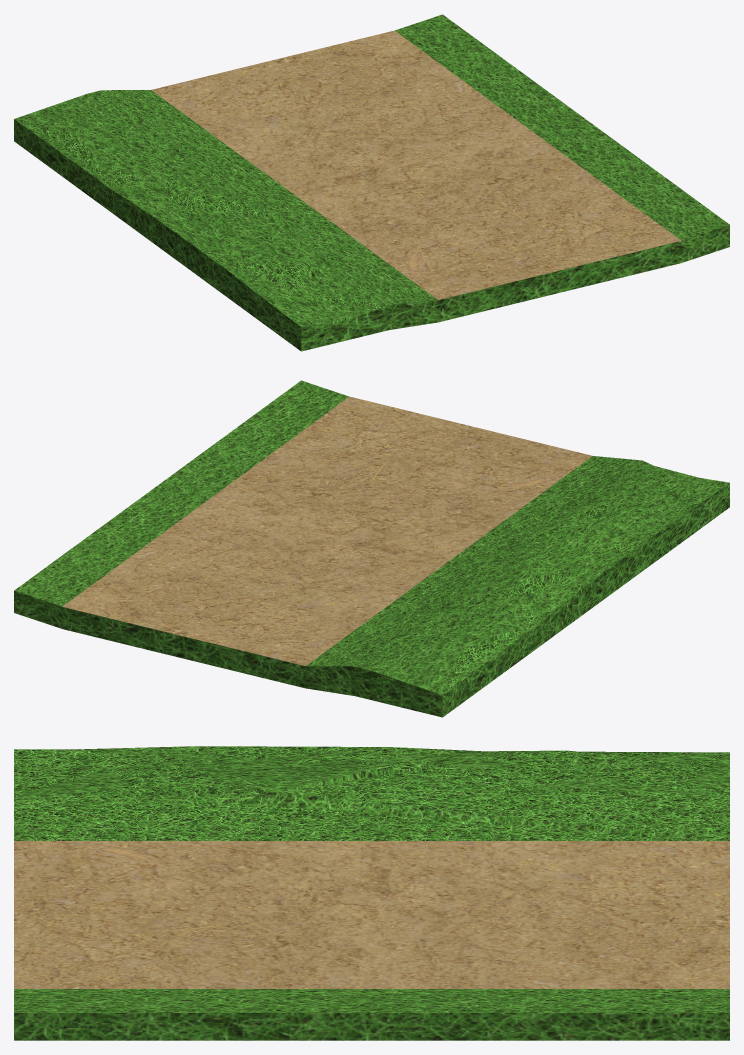
Rendered from newground1.fbx.
The picture shows the model from 3 angles, top to bottom: view 1: azimuth 30°, elevation 25°; view 2: azimuth 150°, elevation 25°; view 3: azimuth 270°, elevation 25°; orthographic projection. The views are drawn at different scales.
Visible parts, largest first — view 1: pCube3; view 2: pCube3; view 3: pCube3.
Part boxes in pixels (left/top/right/bottom): pCube3: left=14, top=14, right=729, bottom=351; pCube3: left=14, top=380, right=729, bottom=717; pCube3: left=14, top=746, right=729, bottom=1040.
Bounding box in the file's own units: 20.17 × 1.85 × 23.41.
2 materials, 2 textured.
